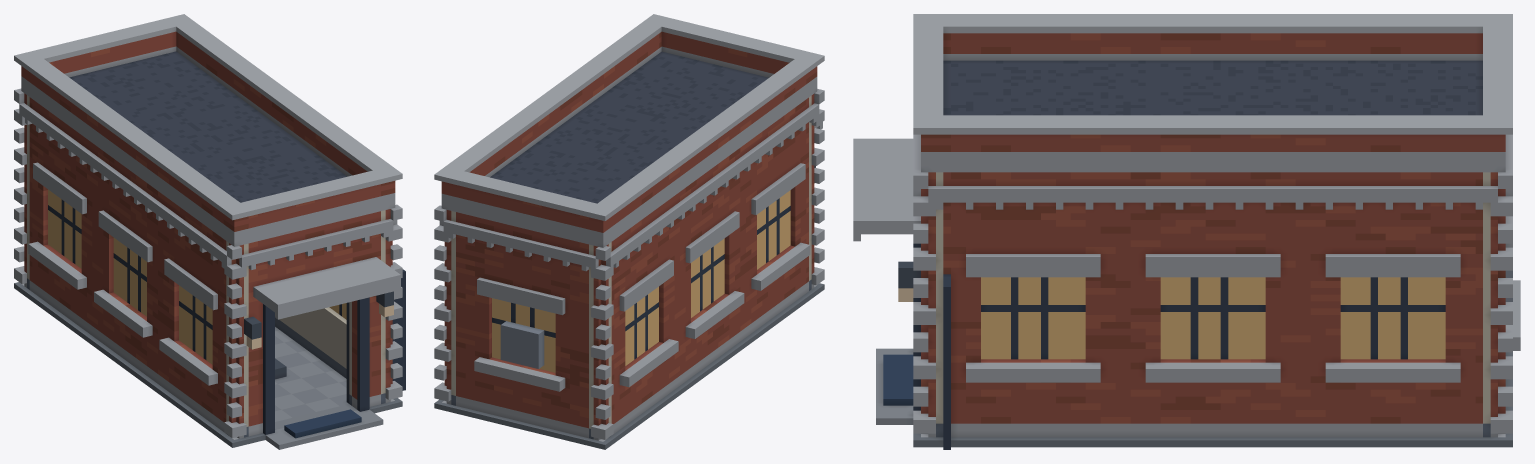
The model's file is training_e2_l3.glb.
3 renders of one model, left to right at view 1: azimuth 30°, elevation 25°; view 2: azimuth 150°, elevation 25°; view 3: azimuth 270°, elevation 25°, orthographic. The views are drawn at different scales.
Visible parts, largest first — view 1: CutRoof, CutNX, Base, CutPZ, CutNZ, CutPX; view 2: CutRoof, CutNX, CutNZ, Base, CutPZ; view 3: CutPX, CutRoof, Base, CutPZ, CutNZ.
Part boxes in pixels (left/top/right/bottom): CutRoof: left=14, top=14, right=402, bottom=246; CutNX: left=19, top=97, right=231, bottom=387; Base: left=14, top=243, right=405, bottom=449; CutPZ: left=224, top=204, right=405, bottom=398; CutNZ: left=14, top=88, right=29, bottom=244; CutPX: left=314, top=220, right=397, bottom=333; CutRoof: left=434, top=14, right=824, bottom=247; CutNX: left=606, top=97, right=819, bottom=388; CutNZ: left=434, top=205, right=613, bottom=399; Base: left=434, top=244, right=824, bottom=449; CutPZ: left=809, top=89, right=824, bottom=245; CutPX: left=928, top=172, right=1497, bottom=382; CutRoof: left=913, top=14, right=1512, bottom=172; Base: left=876, top=270, right=1512, bottom=449; CutPZ: left=853, top=134, right=950, bottom=388; CutNZ: left=1483, top=134, right=1520, bottom=379.
Bounding box in the file's own units: 4 × 4.7 × 8.9.
